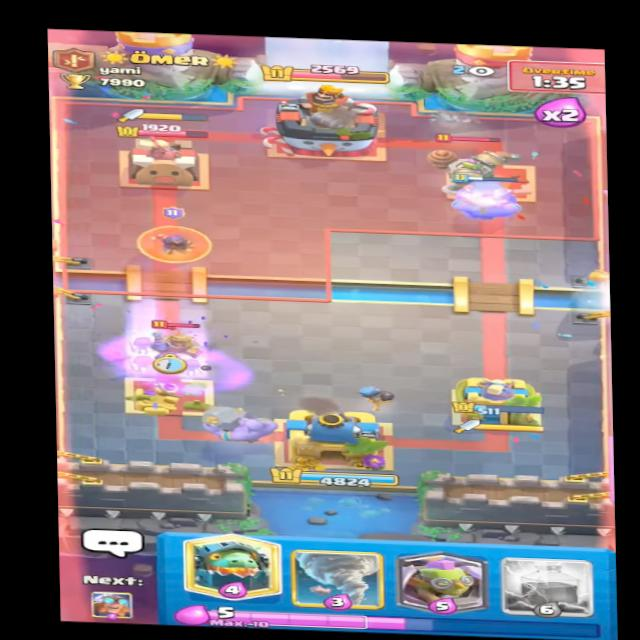evo-wizard: (135, 209, 217, 271)
goblin-machine: (417, 133, 516, 202)
prince: (148, 318, 204, 378)
